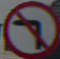Don't turn left: (9, 6, 50, 54)
